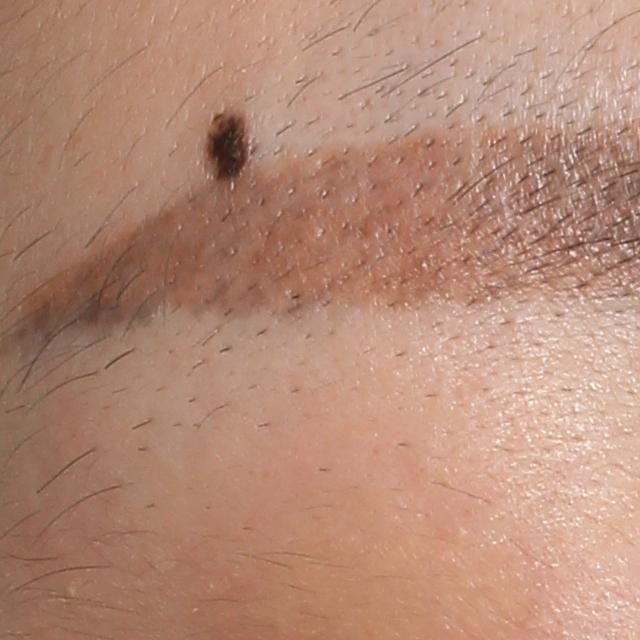nevus: (193, 109, 255, 183)
